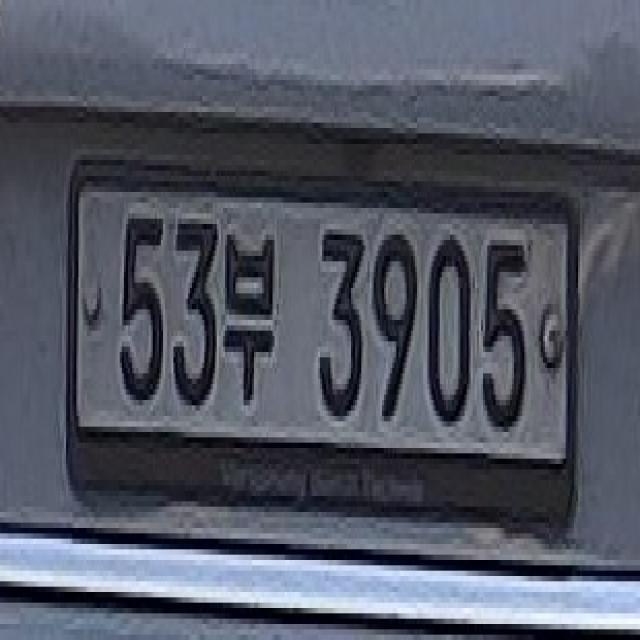0: (423, 229, 481, 432)
3: (314, 219, 369, 421), (169, 219, 219, 405)
5: (479, 230, 539, 438), (120, 198, 167, 406)
9: (366, 213, 419, 432)
bu: (217, 214, 281, 406)
license_plate: (72, 144, 588, 544)
